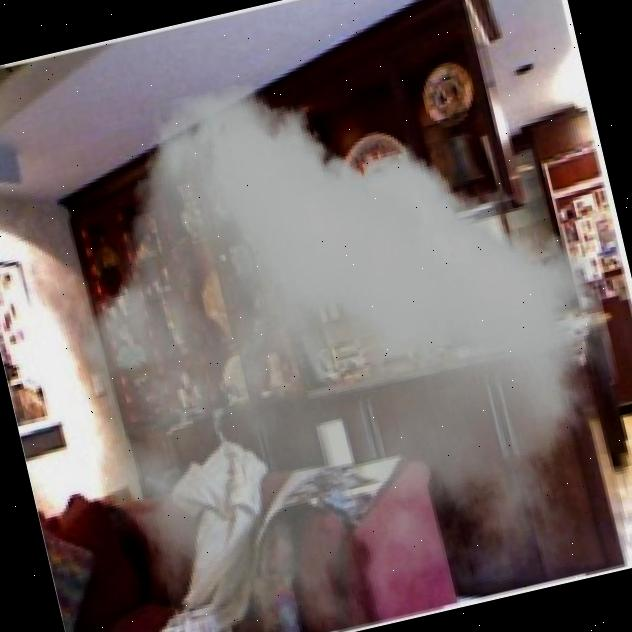smoke: (20, 15, 632, 632)
